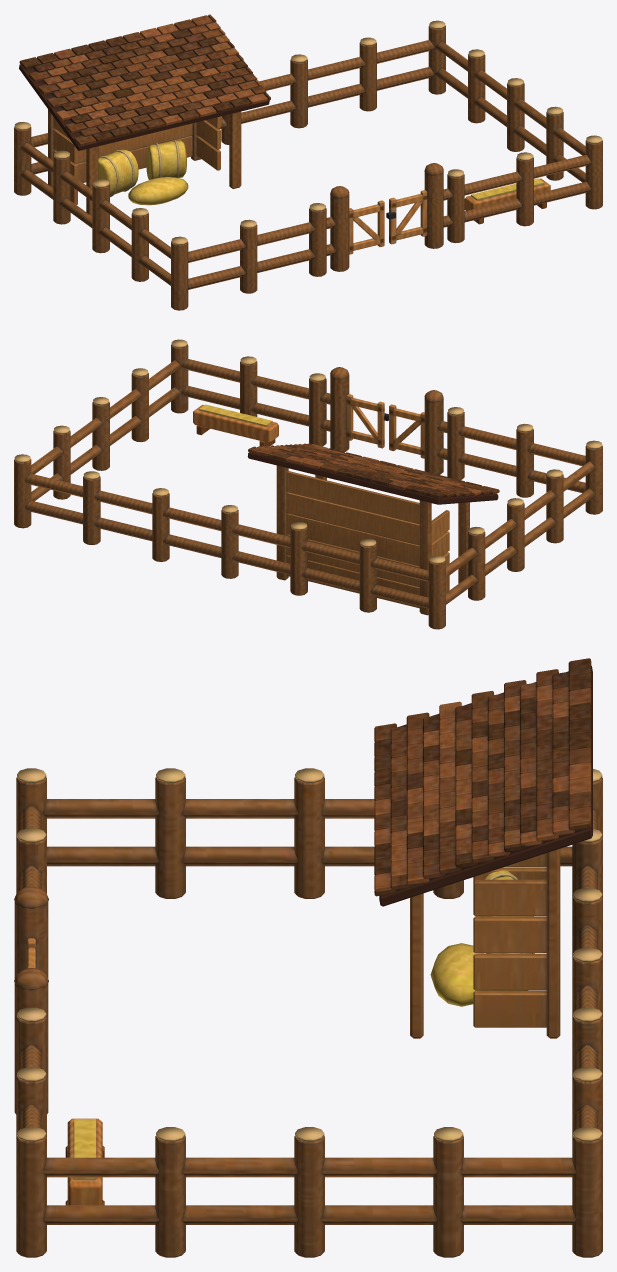
The model's file is shetland_fold.glb.
The picture shows the model from 3 angles, top to bottom: view 1: azimuth 30°, elevation 25°; view 2: azimuth 150°, elevation 25°; view 3: azimuth 270°, elevation 25°; orthographic projection. The views are drawn at different scales.
Visible parts, largest first — view 1: shetland_fold, gate1, gate0; view 2: shetland_fold, gate1, gate0; view 3: shetland_fold.
Part boxes in pixels (x1,y1,x2,y2): shetland_fold: (14, 14, 602, 310); gate1: (386, 190, 427, 244); gate0: (349, 200, 384, 254); shetland_fold: (14, 339, 602, 629); gate1: (346, 394, 388, 448); gate0: (389, 404, 424, 458); shetland_fold: (14, 658, 602, 1257).
Bounding box in the file's own units: 3 × 0.9342 × 2.01.
1 material, 1 textured.
